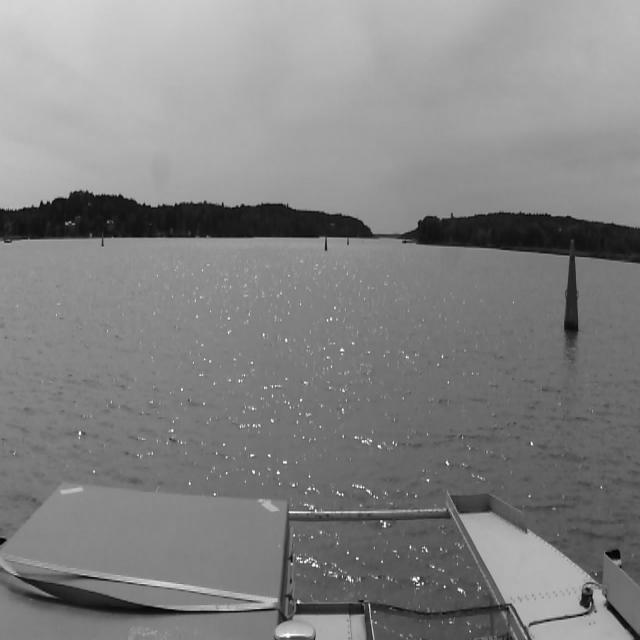buoy: (558, 222, 584, 346), (100, 228, 106, 250), (323, 232, 329, 253), (346, 231, 350, 247)
